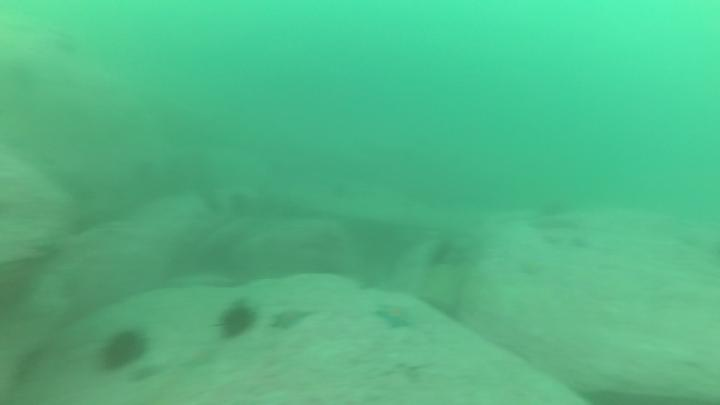echinus: (97, 327, 153, 374), (215, 303, 259, 339)
starfish: (374, 302, 417, 335), (268, 307, 318, 334)
